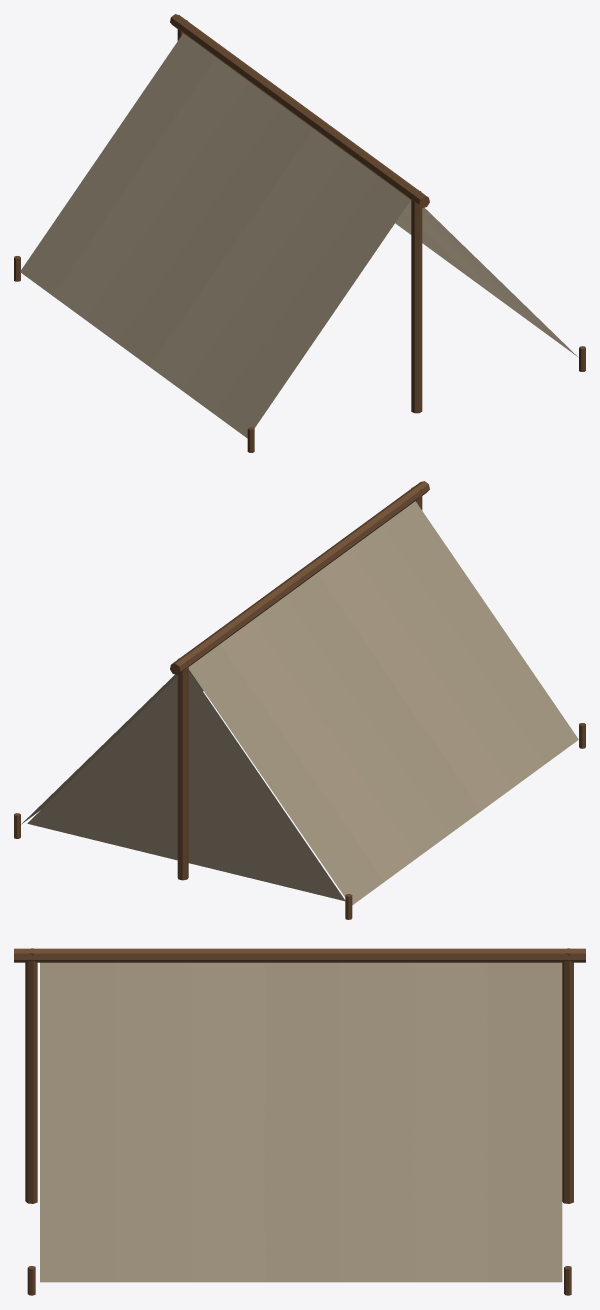
Rendered from carried_ridge.glb.
3 views of the same model, one above another, from view 1: azimuth 30°, elevation 25°; view 2: azimuth 150°, elevation 25°; view 3: azimuth 270°, elevation 25° (orthographic). The views are drawn at different scales.
Parts seen in each view (by area): view 1: carried_ridge; view 2: carried_ridge; view 3: carried_ridge.
Part boxes in pixels (bbox=[...]): carried_ridge: bbox=[14, 14, 585, 452]; carried_ridge: bbox=[14, 481, 585, 919]; carried_ridge: bbox=[14, 948, 585, 1295].
Size of the model in its own units: 2.75 by 1.72 by 3.52.
